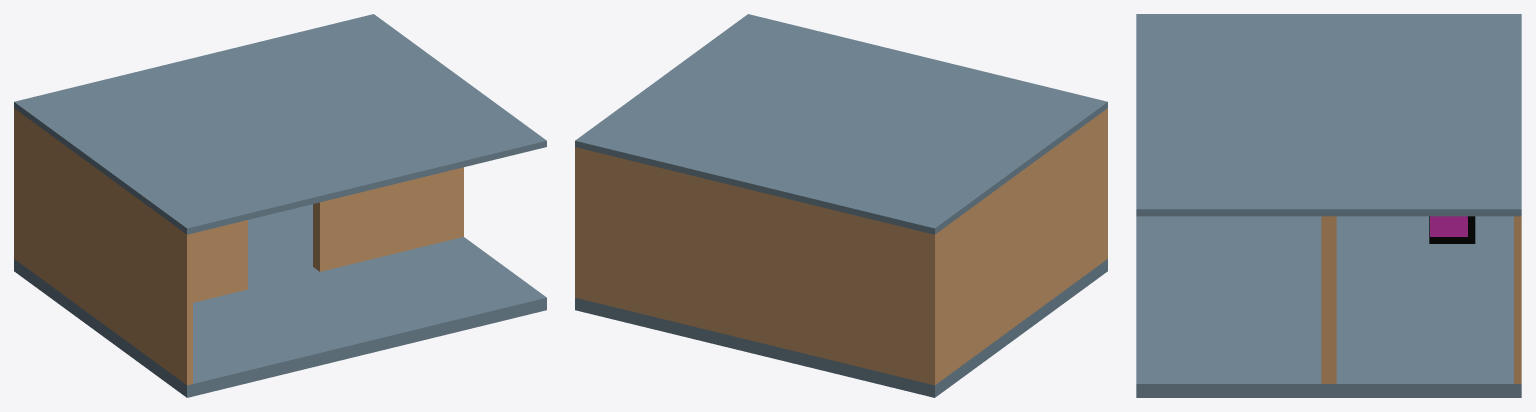
Rendered from two-room-pavilion.glb.
3 renders of one model, left to right at view 1: azimuth 30°, elevation 25°; view 2: azimuth 150°, elevation 25°; view 3: azimuth 270°, elevation 25°, orthographic. The views are drawn at different scales.
Parts seen in each view (by area): view 1: Roof slab, Floor, Left wall, East doorway wall, West doorway wall; view 2: Roof slab, Rear wall, Left wall, Floor, West doorway wall; view 3: Roof slab, Floor, East doorway wall, Rear wall, Mosaic bench.
Boxes of the visible parts, bbox=[...] form: Roof slab: bbox=[14, 14, 546, 234]; Floor: bbox=[14, 204, 546, 397]; Left wall: bbox=[14, 108, 192, 385]; East doorway wall: bbox=[313, 167, 463, 271]; West doorway wall: bbox=[97, 169, 247, 323]; Roof slab: bbox=[575, 14, 1107, 234]; Rear wall: bbox=[575, 147, 938, 385]; Left wall: bbox=[929, 108, 1107, 384]; Floor: bbox=[575, 259, 1107, 397]; West doorway wall: bbox=[1018, 169, 1024, 323]; Roof slab: bbox=[1136, 14, 1521, 216]; Floor: bbox=[1136, 216, 1521, 397]; East doorway wall: bbox=[1321, 216, 1336, 383]; Rear wall: bbox=[1514, 216, 1521, 383]; Mosaic bench: bbox=[1429, 216, 1475, 243].
Size of the model in its own units: 6 by 2.7 by 5.
Materials: 3 (1 with a texture image).
